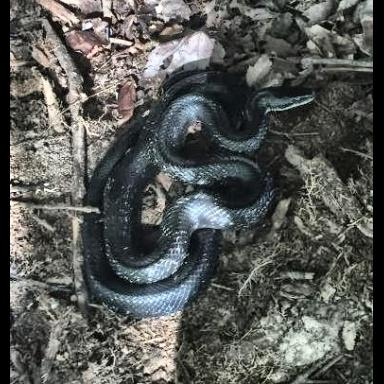snake: (86, 72, 315, 319)
